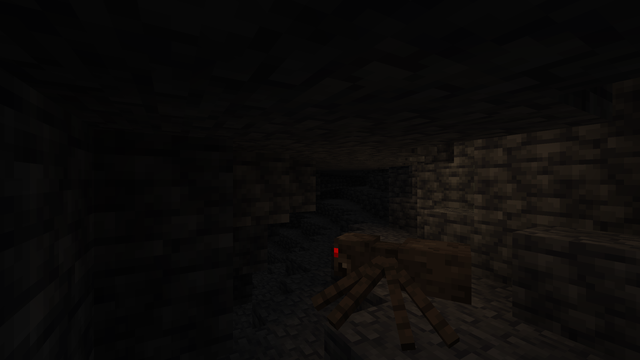araignees: (317, 222, 472, 349)
